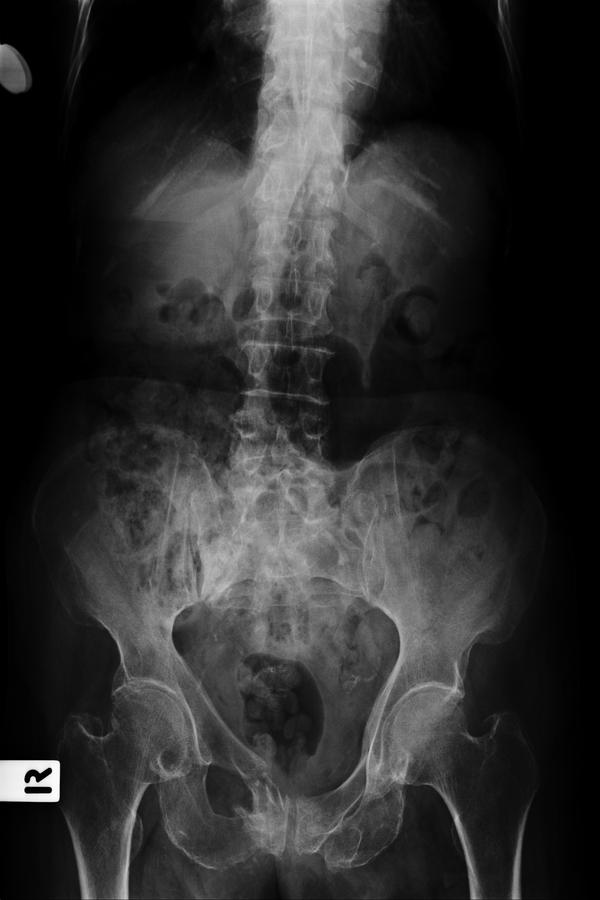lumbar scoliosis: (238, 215, 343, 525)
